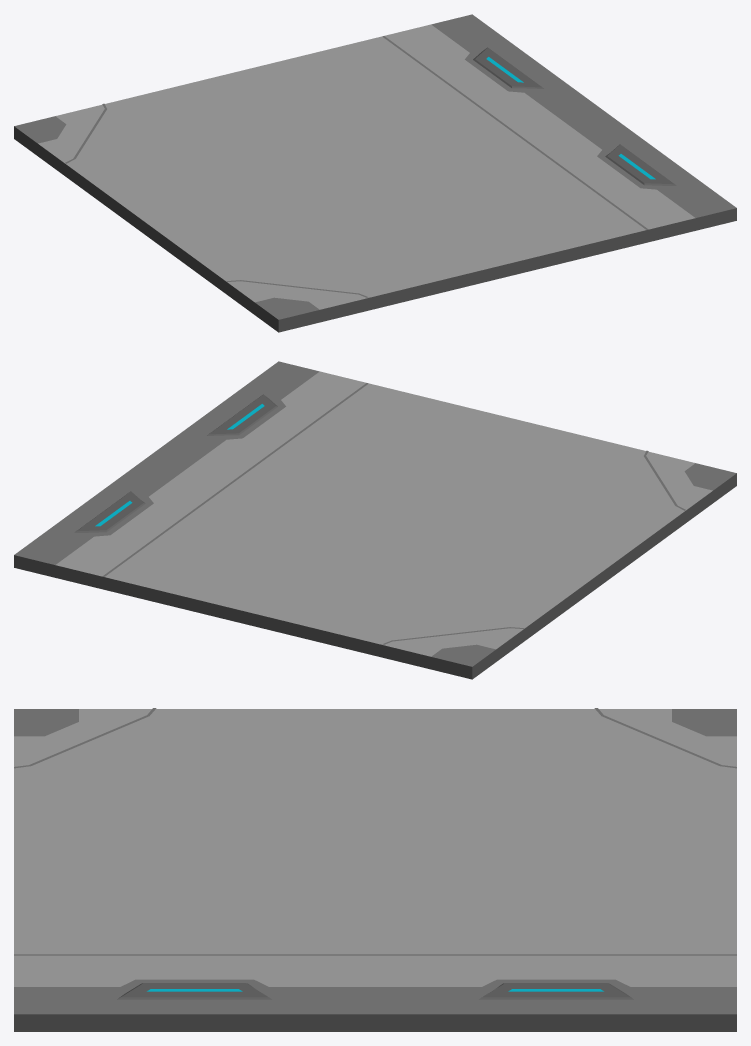
Rendered from tile_platform_002.fbx.
The picture shows the model from 3 angles, top to bottom: view 1: azimuth 30°, elevation 25°; view 2: azimuth 150°, elevation 25°; view 3: azimuth 270°, elevation 25°; orthographic projection. The views are drawn at different scales.
Visible parts, largest first — view 1: tile_platform_002; view 2: tile_platform_002; view 3: tile_platform_002.
Boxes of the visible parts, box(x1,y1,x2,y2) form: tile_platform_002: box(14, 14, 736, 332); tile_platform_002: box(14, 361, 736, 679); tile_platform_002: box(14, 708, 736, 1031).
Size of the model in its own units: 800 by 800 by 22.89.
